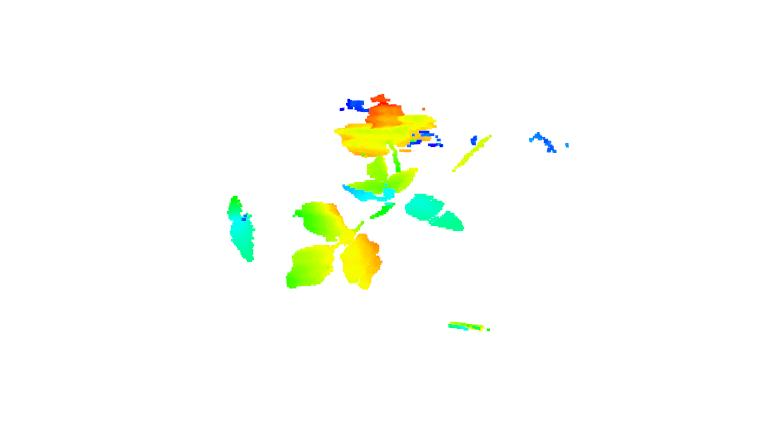mungbean: (281, 92, 472, 298)
